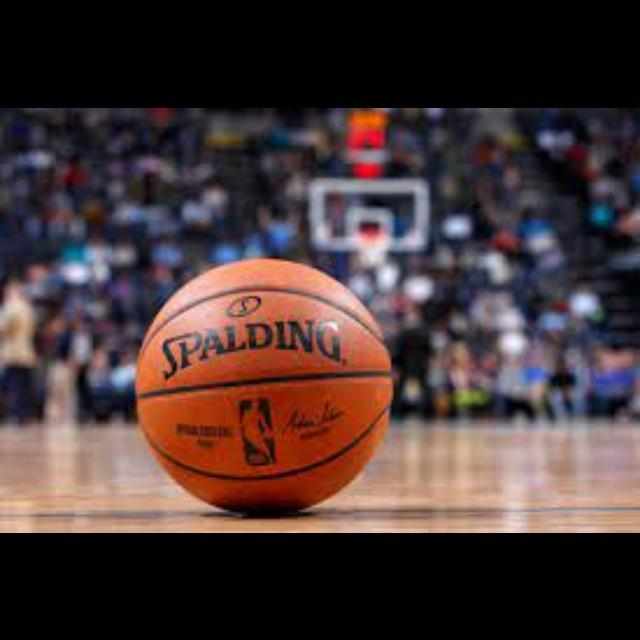basketball: (136, 258, 392, 507)
